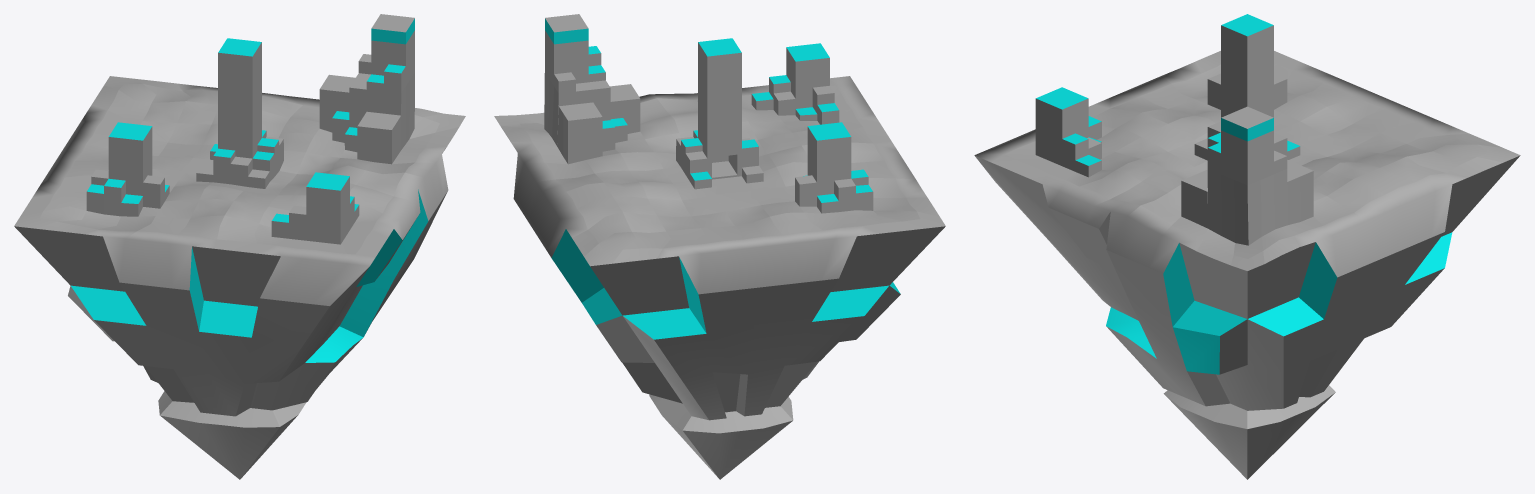
File: Qarry.fbx
3 renders of one model, left to right at view 1: azimuth 30°, elevation 25°; view 2: azimuth 150°, elevation 25°; view 3: azimuth 270°, elevation 25°, orthographic. The views are drawn at different scales.
Parts seen in each view (by area): view 1: pasted__pPyramid2; view 2: pasted__pPyramid2; view 3: pasted__pPyramid2.
Part boxes in pixels (x1,y1,x2,y2): pasted__pPyramid2: (14, 14, 465, 479); pasted__pPyramid2: (494, 14, 945, 479); pasted__pPyramid2: (974, 14, 1520, 479).
Bounding box in the file's own units: 57.73 × 52.8 × 57.51.
